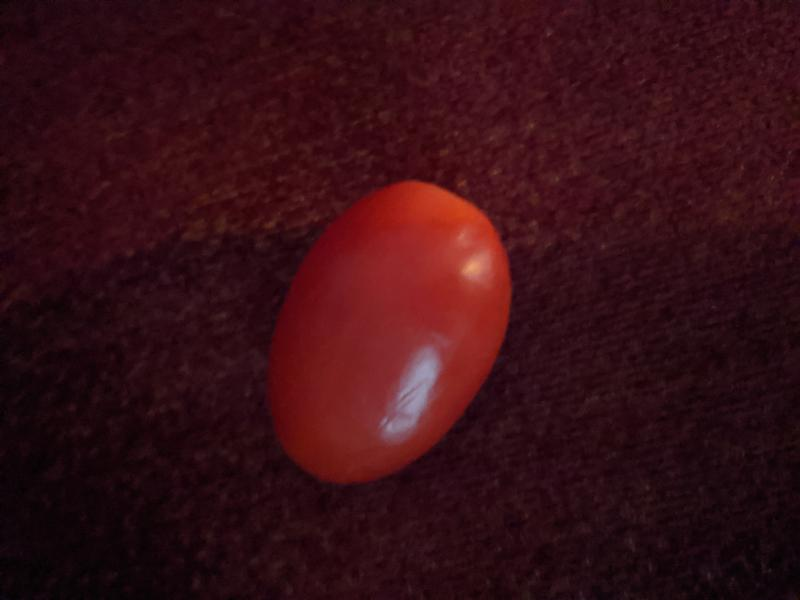tomato: (266, 179, 513, 486)
